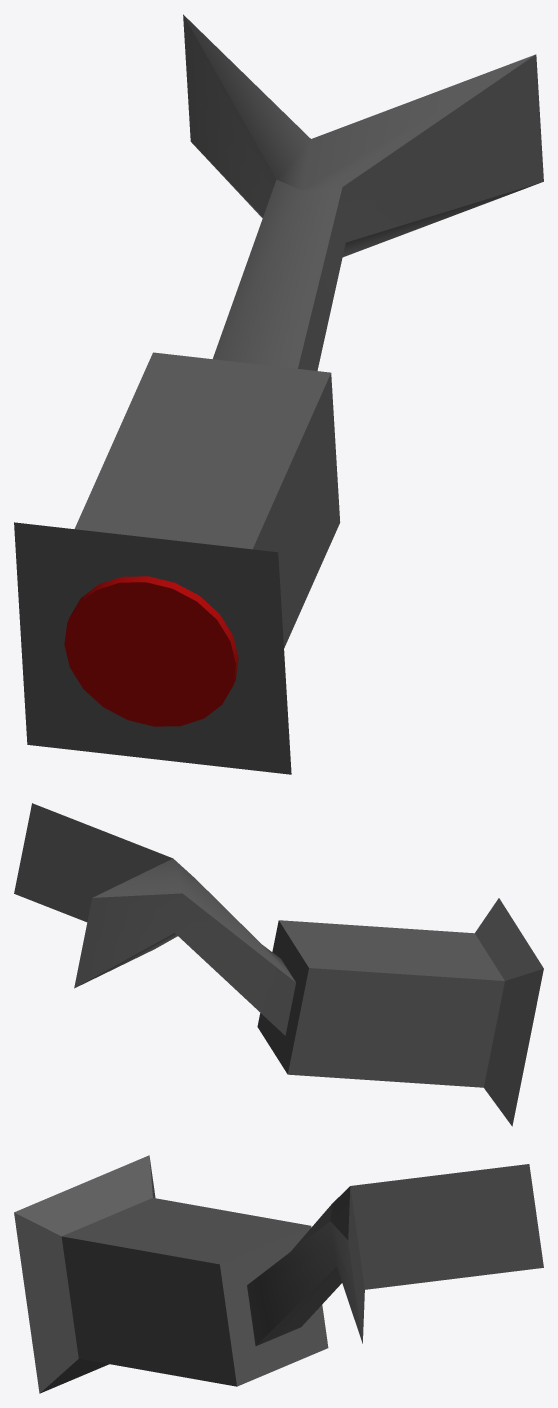
File: cctvExported.fbx
3 views of the same model, one above another, from view 1: azimuth 30°, elevation 25°; view 2: azimuth 150°, elevation 25°; view 3: azimuth 270°, elevation 25° (orthographic). The views are drawn at different scales.
Parts seen in each view (by area): view 1: CCTV; view 2: CCTV; view 3: CCTV.
Part boxes in pixels (bbox=[...]): CCTV: bbox=[14, 14, 543, 774]; CCTV: bbox=[14, 803, 543, 1126]; CCTV: bbox=[14, 1155, 543, 1393].
Bounding box in the file's own units: 2.62 × 1.63 × 2.51.
